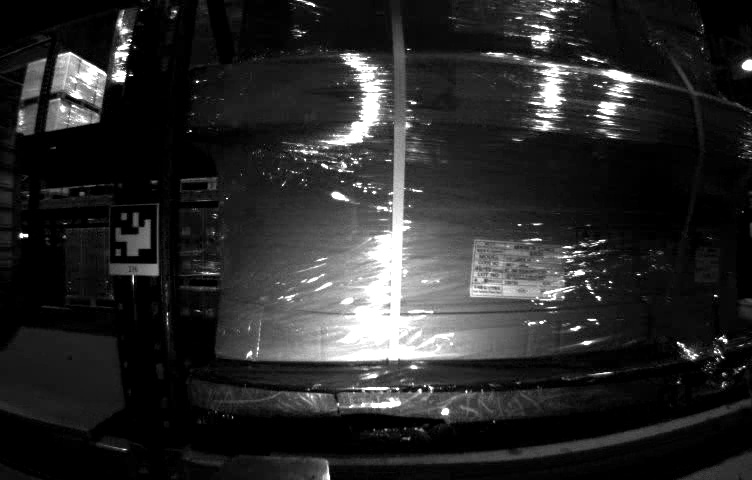True Barcode: (695, 245, 720, 282)
